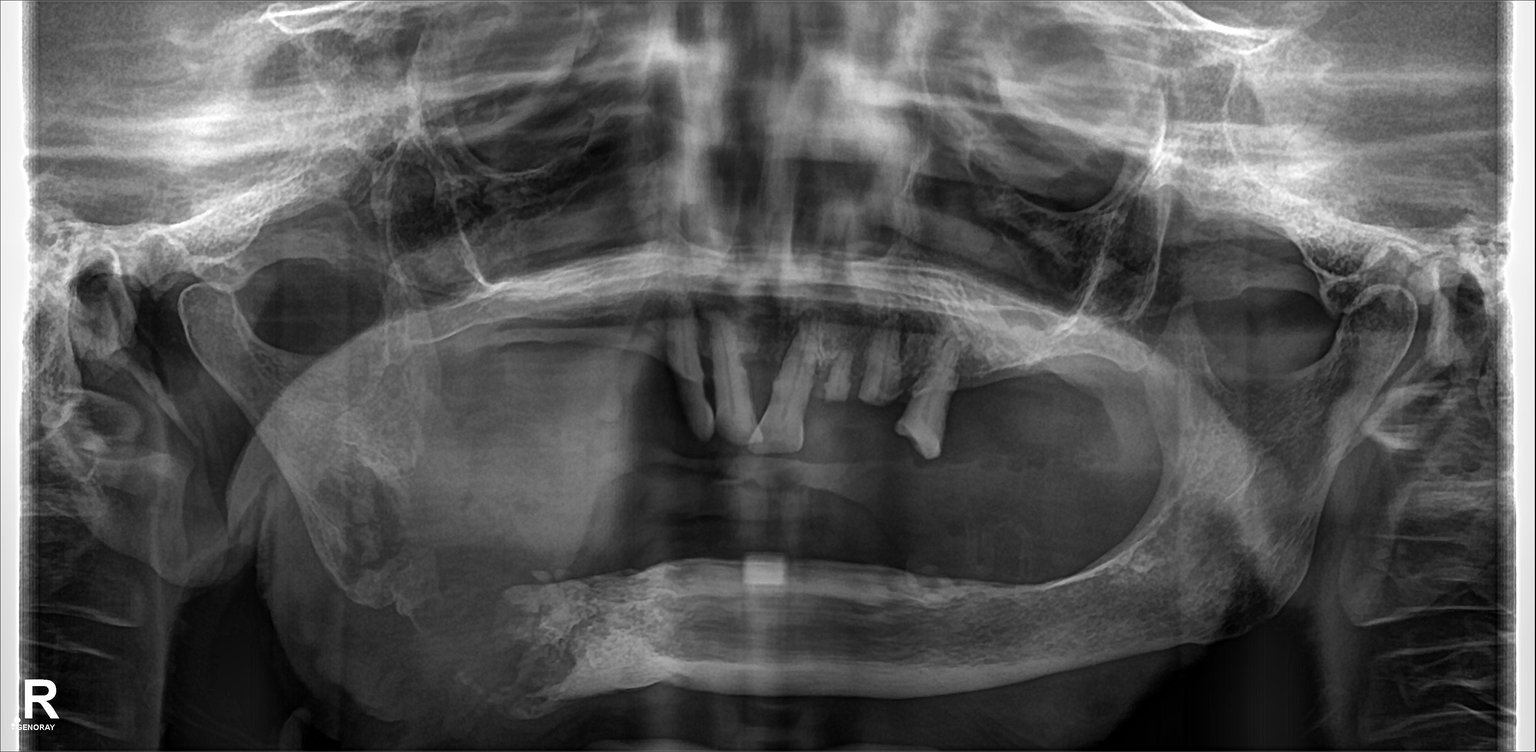Missing Tooth: (534, 303, 588, 416), (423, 302, 472, 416), (490, 309, 533, 420), (1009, 342, 1058, 434), (1065, 326, 1105, 431), (739, 519, 784, 608), (447, 506, 490, 599), (965, 529, 1019, 602), (611, 519, 660, 594), (546, 516, 596, 587), (395, 506, 435, 587), (678, 514, 721, 588), (790, 521, 833, 593), (914, 527, 952, 605), (505, 508, 542, 588), (976, 337, 1006, 434), (1132, 508, 1167, 591), (1035, 523, 1068, 605), (857, 525, 895, 596), (1076, 521, 1117, 585)
Periodontal Pocket: (590, 307, 894, 448)
Retained Root: (901, 383, 948, 469)
